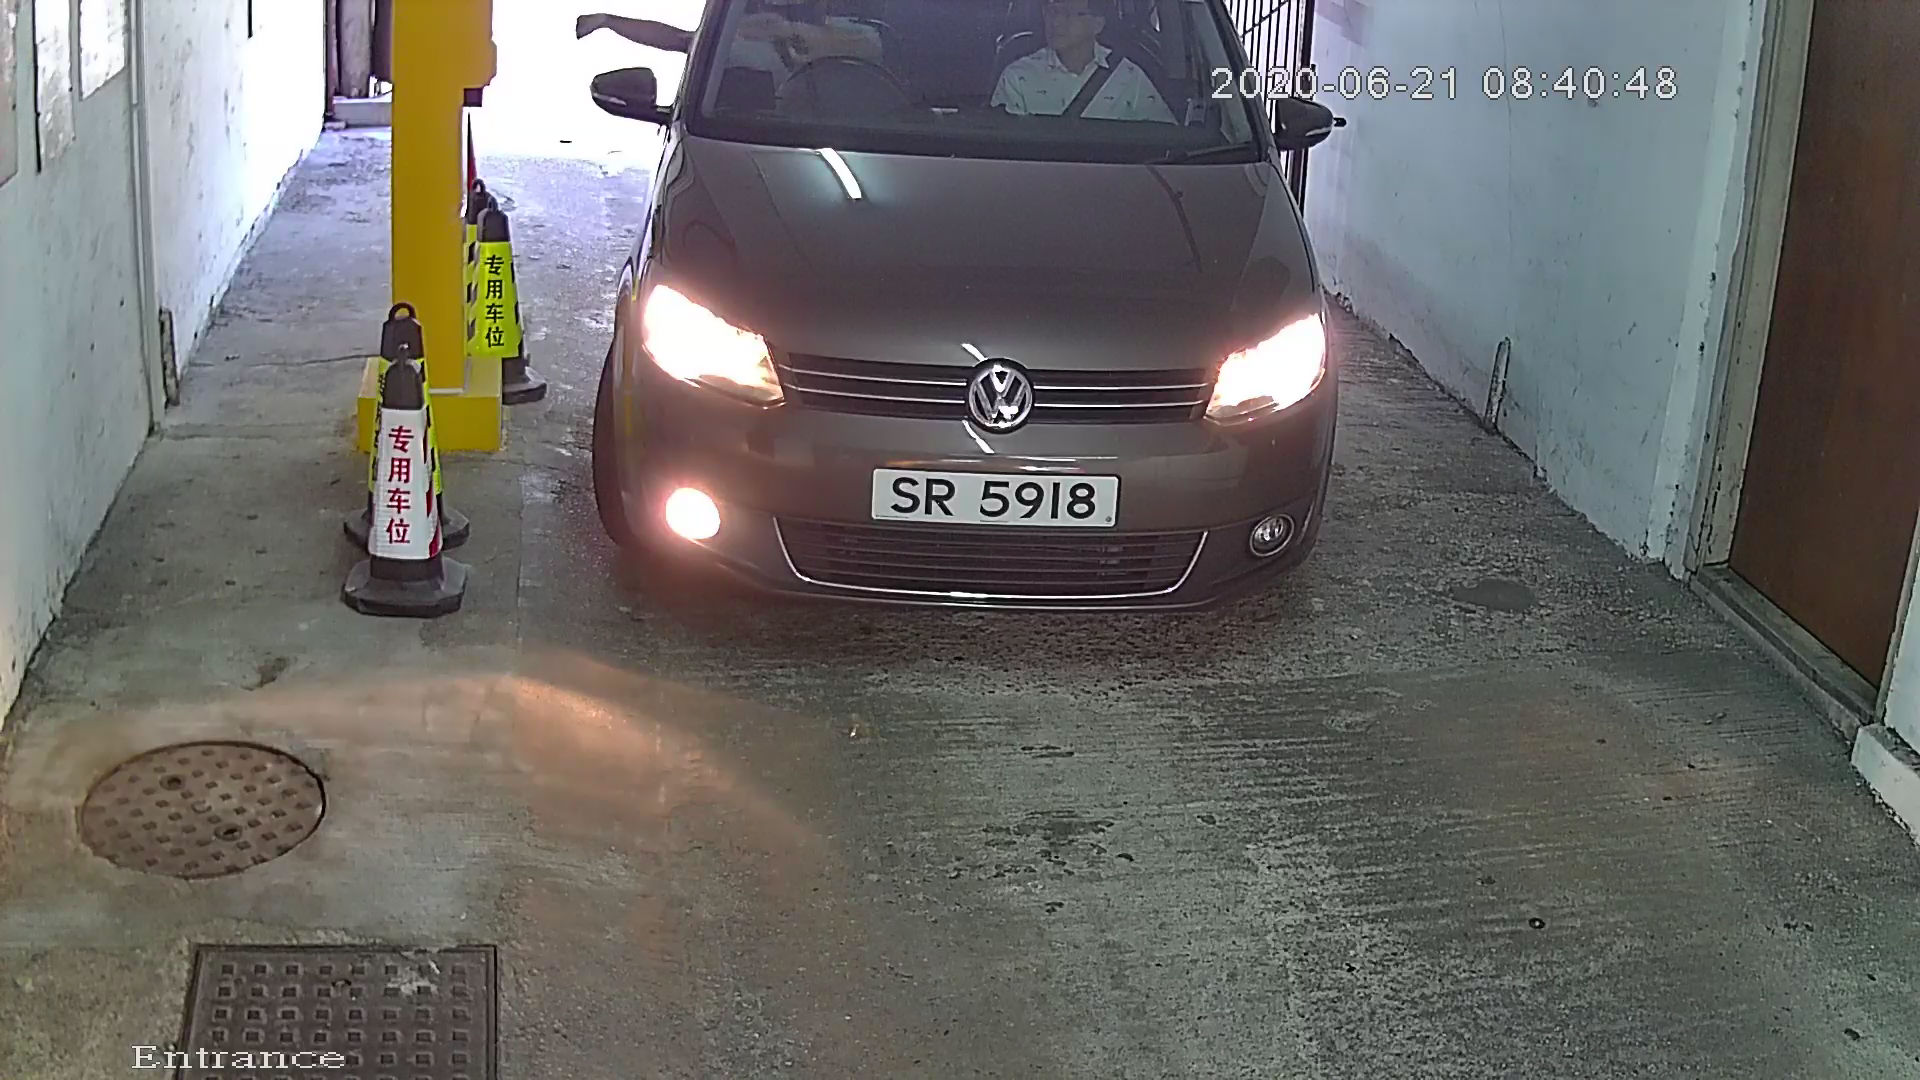privatecar: (567, 3, 1390, 676)
